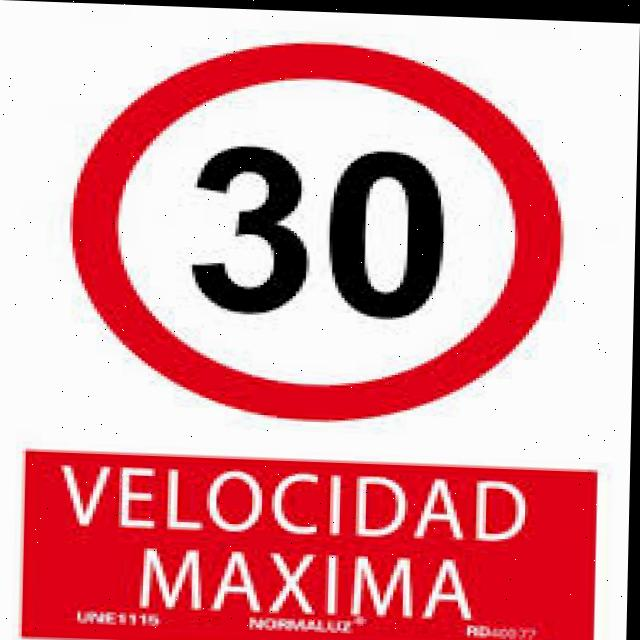Speed limit 30: (62, 28, 572, 428)
